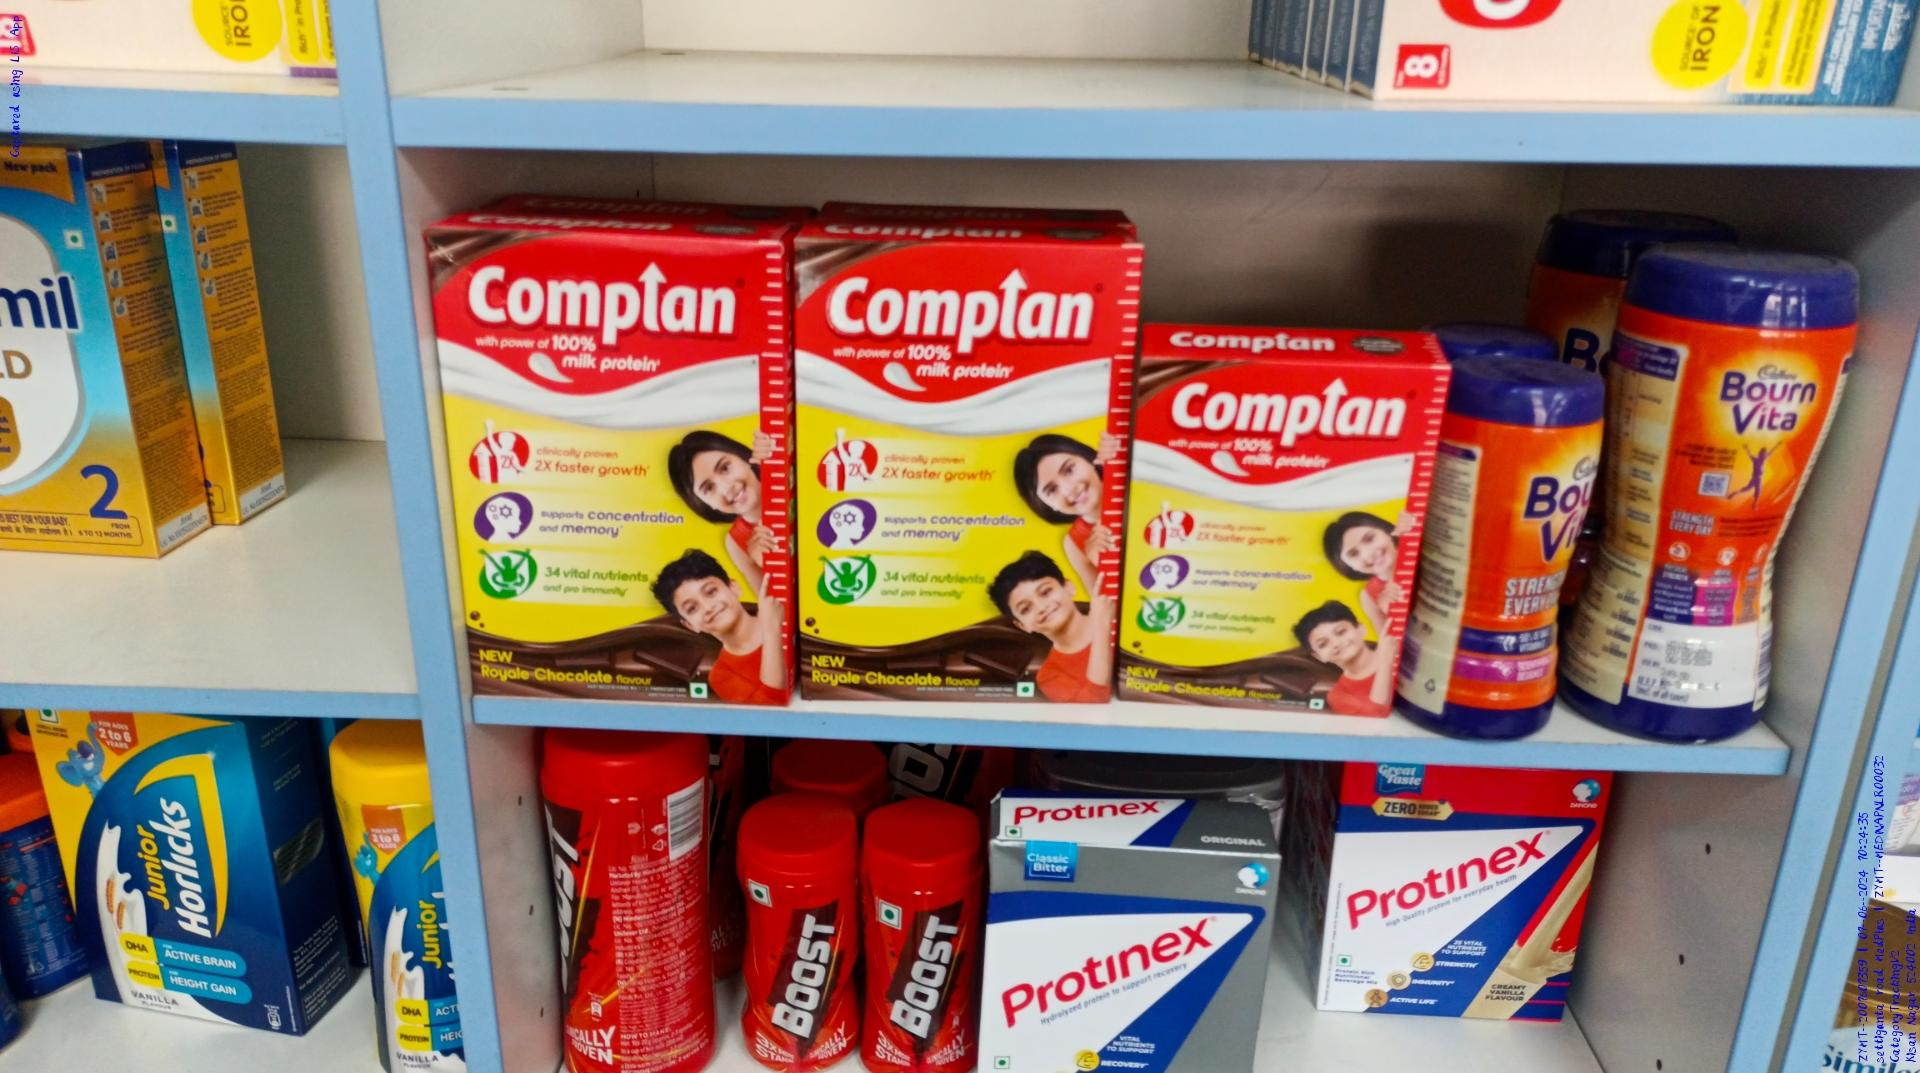HORLICKS_JUNIOR_VANILLA_500_GM_JAR: (336, 722, 454, 1072)
